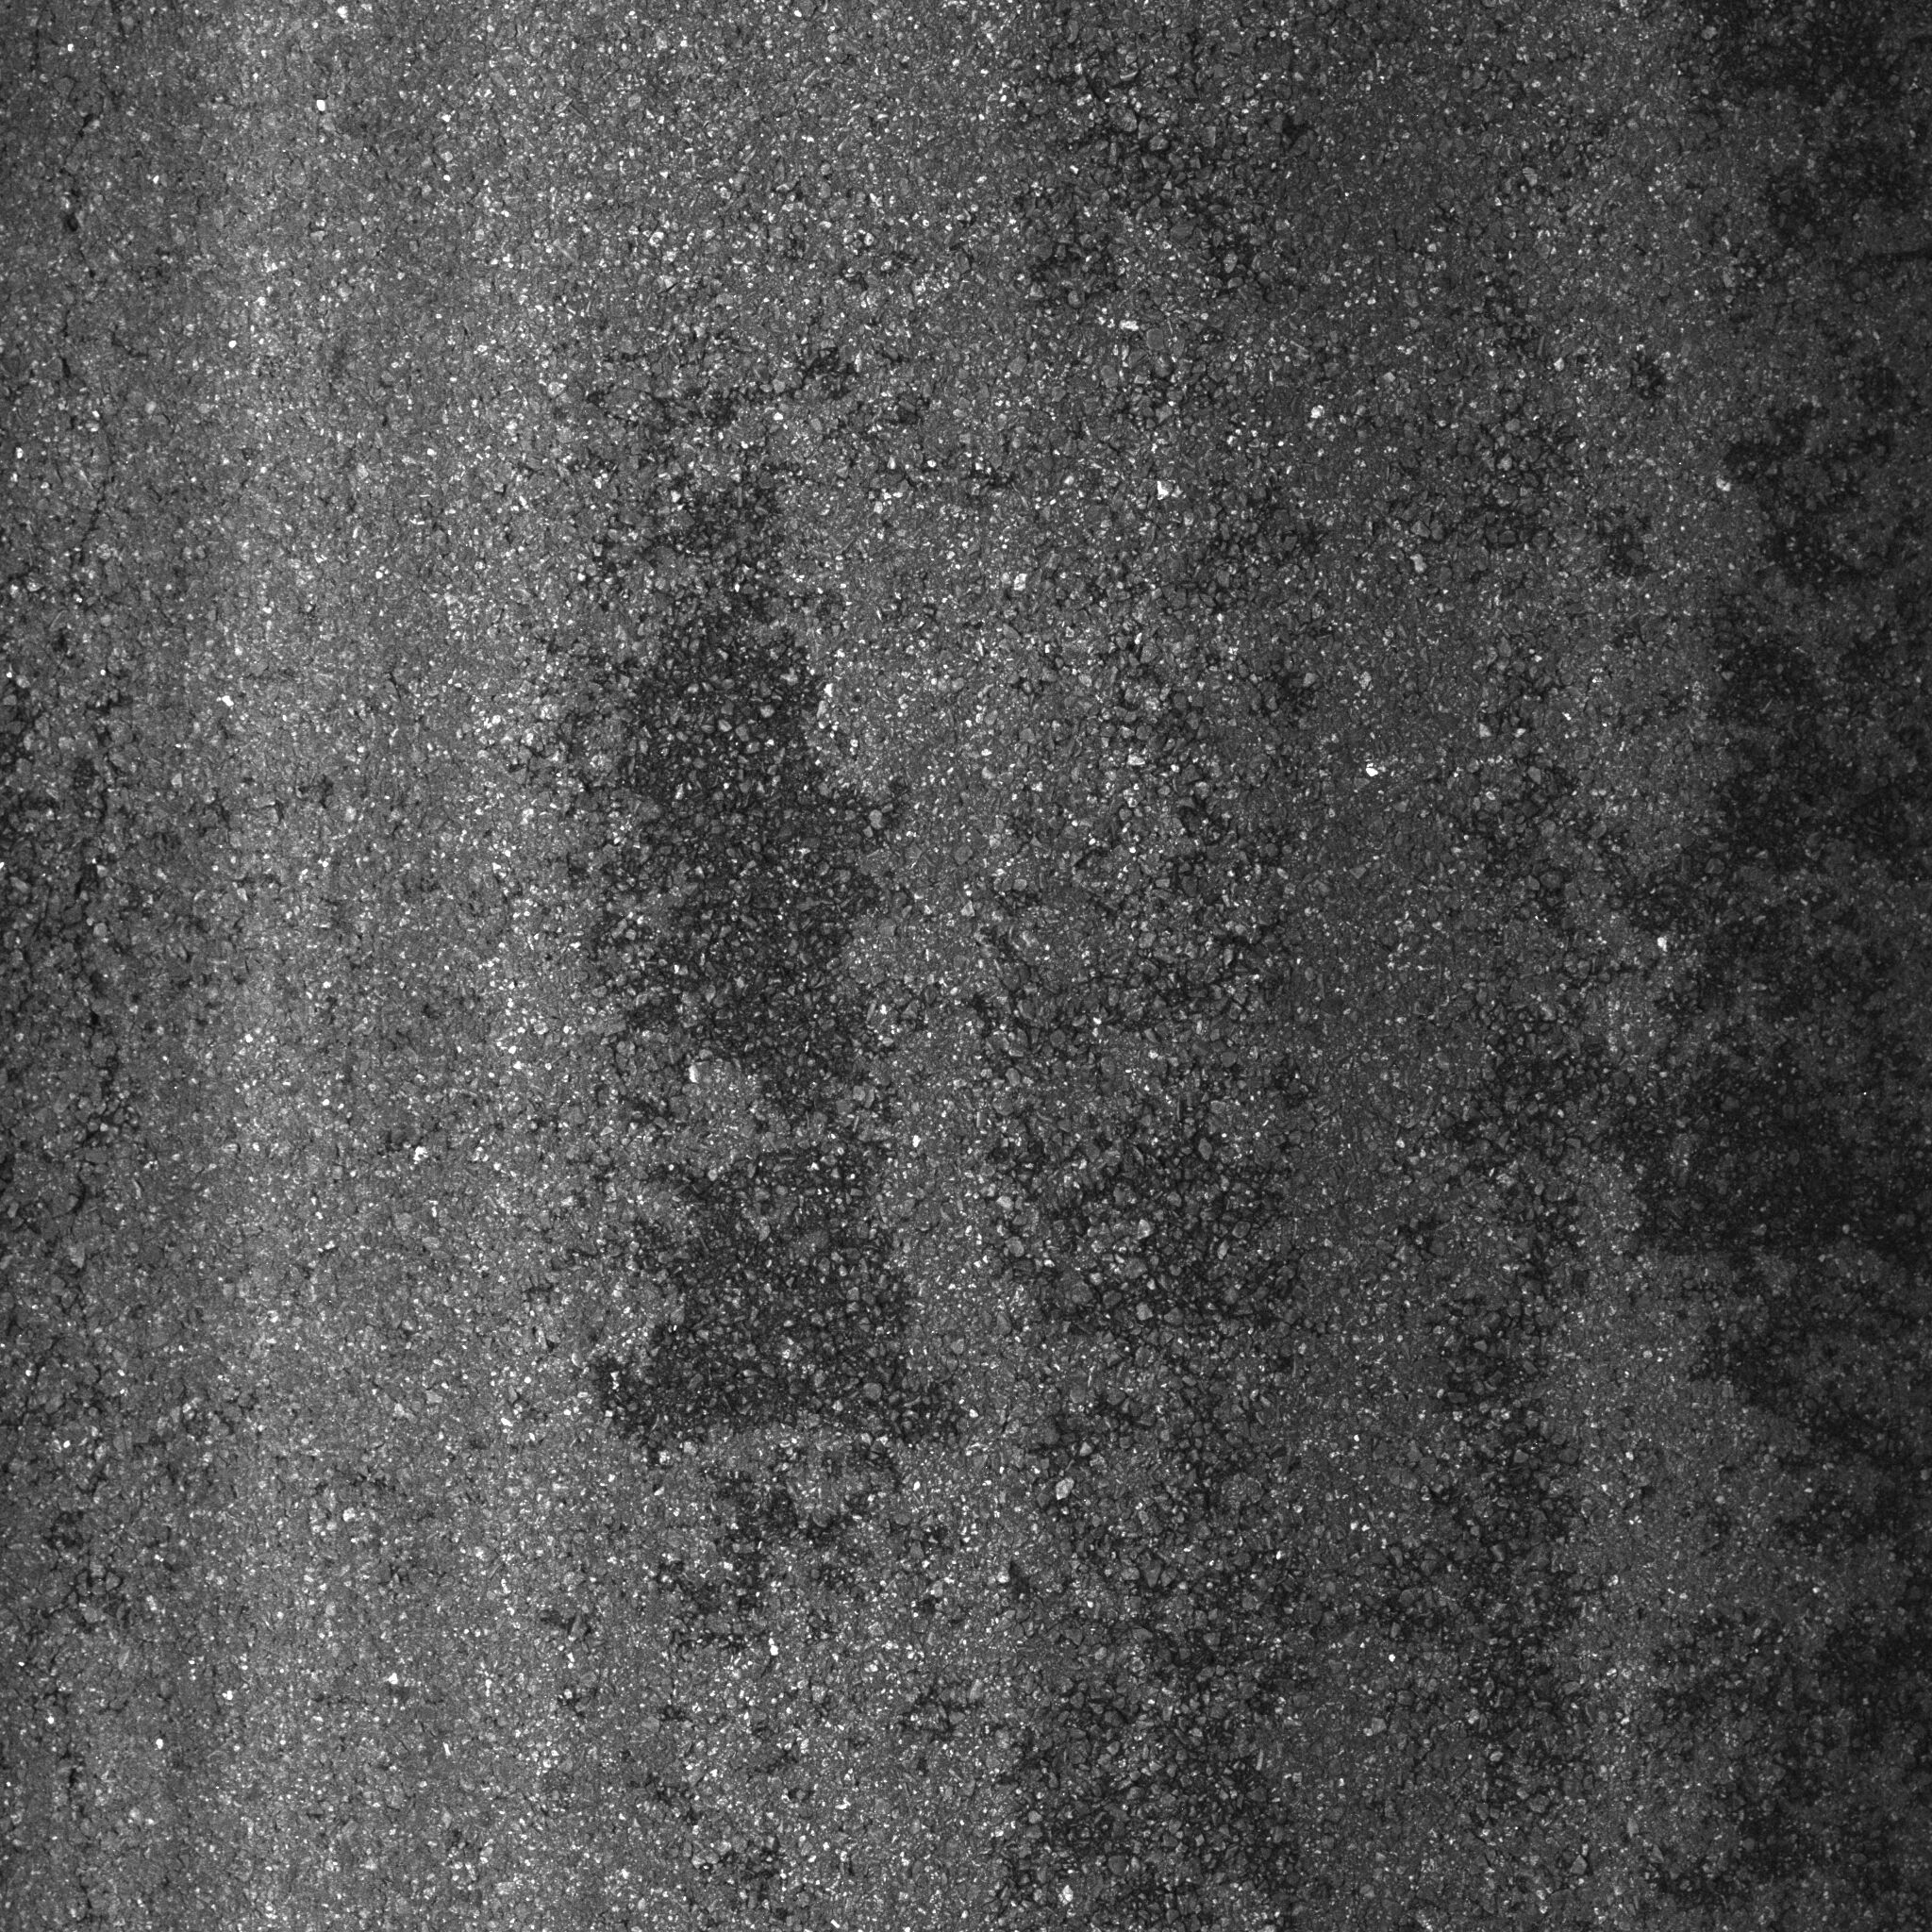longitudinal: (9, 37, 188, 1718)
